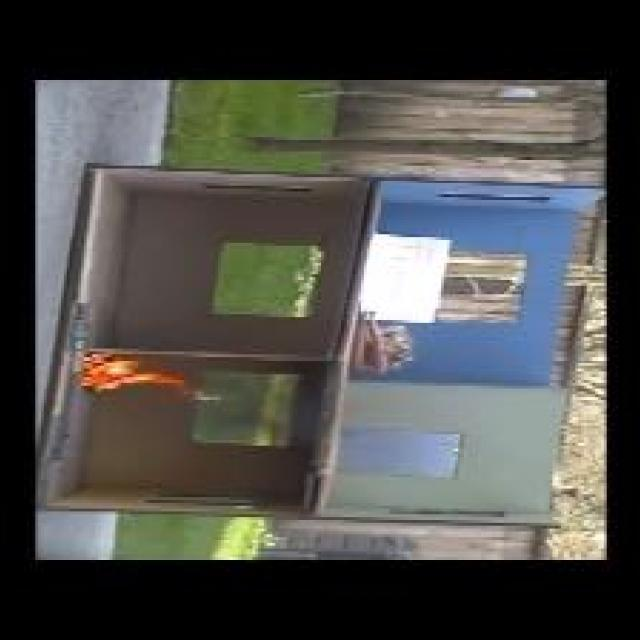Fire: (81, 356, 188, 390)
